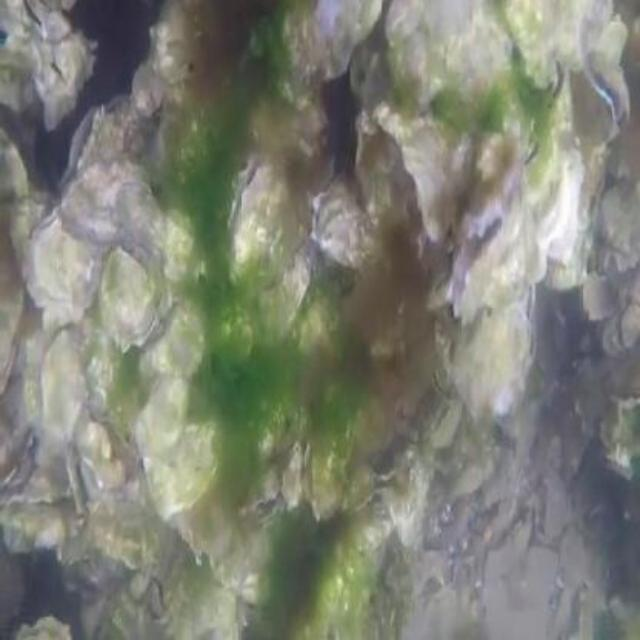Oyster-Closed: (378, 101, 476, 239), (385, 0, 511, 107), (455, 283, 540, 419), (503, 0, 635, 86), (536, 141, 608, 291), (278, 0, 388, 96), (0, 123, 31, 404), (25, 209, 97, 329), (143, 420, 221, 513), (249, 252, 311, 354), (41, 328, 90, 446), (140, 381, 188, 473), (144, 304, 201, 380), (312, 183, 360, 269), (429, 308, 458, 397), (339, 458, 375, 517), (430, 398, 465, 449), (584, 274, 626, 311), (623, 301, 638, 346)
Oyster-Open: (451, 173, 547, 312), (56, 94, 160, 193), (224, 149, 297, 284), (522, 59, 573, 207), (96, 246, 164, 353), (571, 53, 629, 154), (302, 433, 343, 518), (0, 423, 40, 509), (243, 466, 287, 526), (45, 43, 85, 97), (65, 444, 96, 513), (16, 616, 73, 638), (23, 0, 46, 31)
